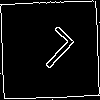L: (25, 25, 77, 77)
